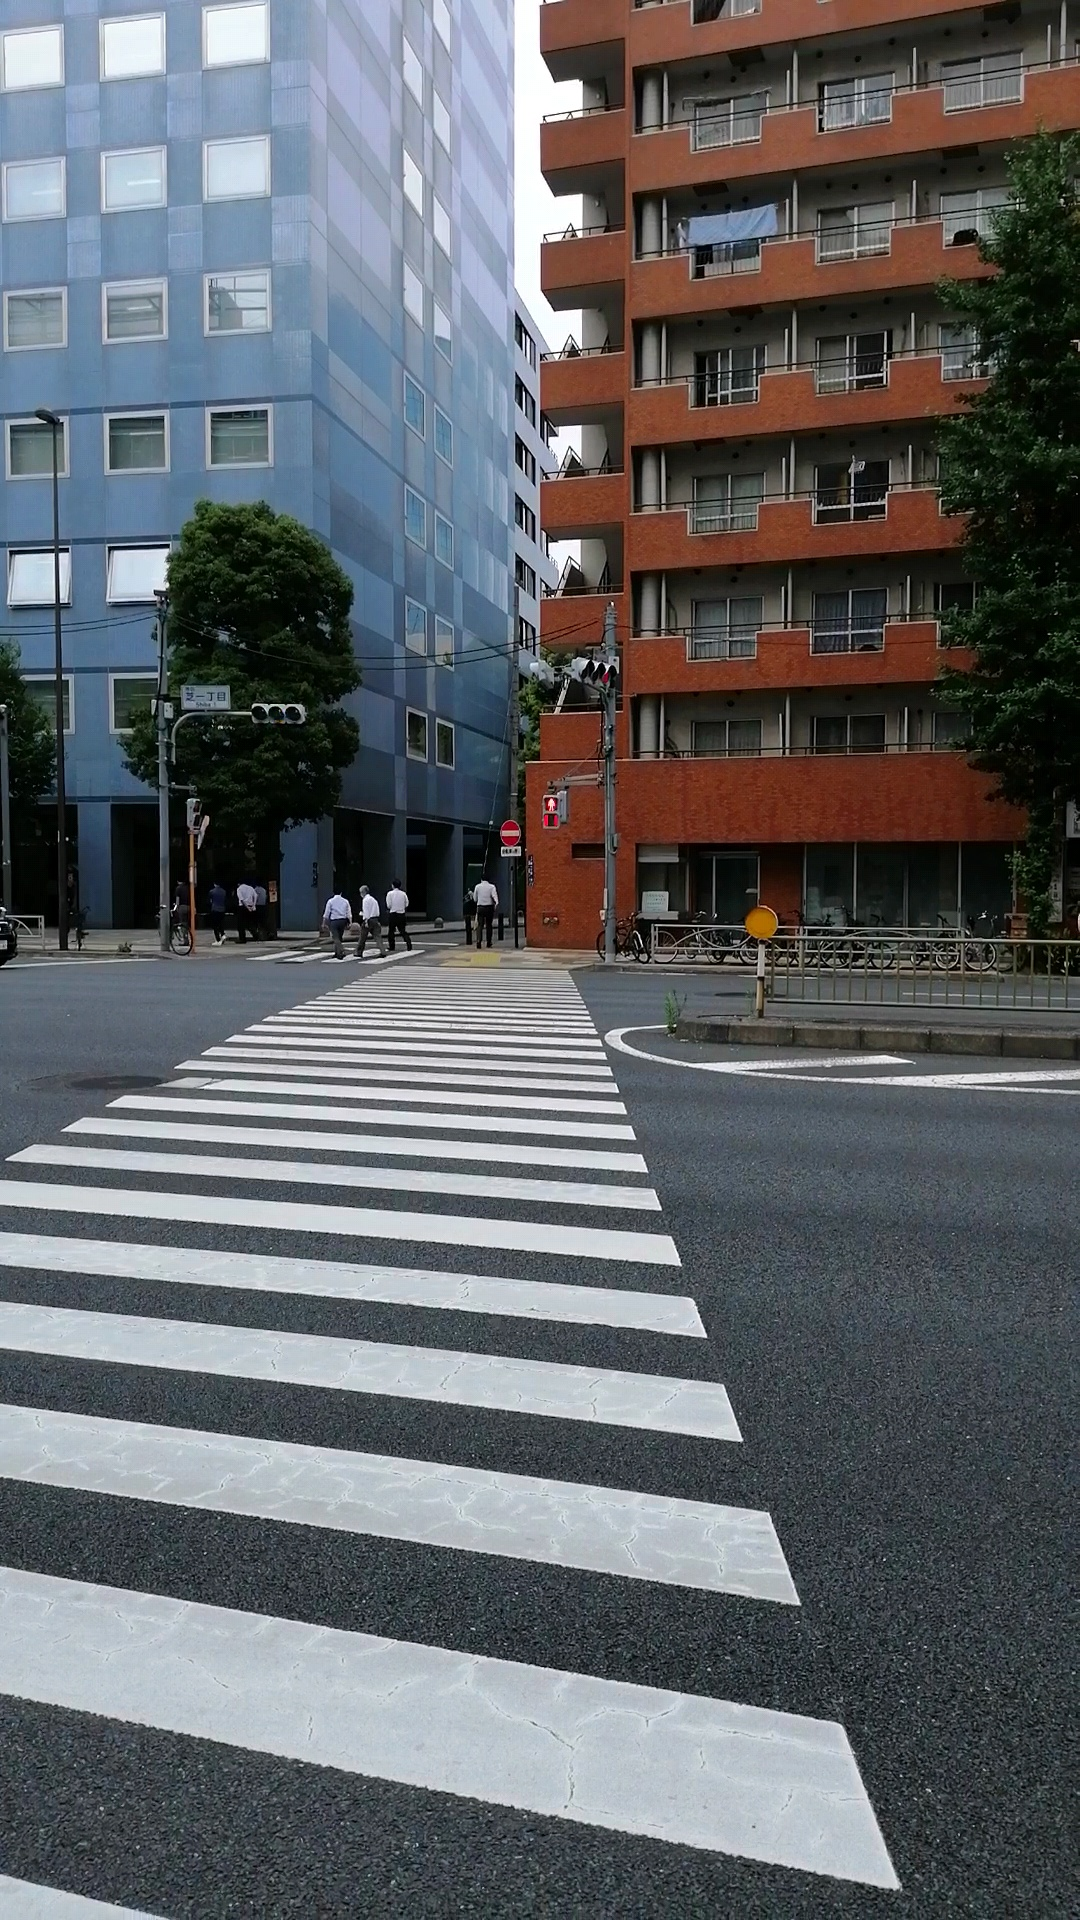red: (541, 793, 559, 831)
